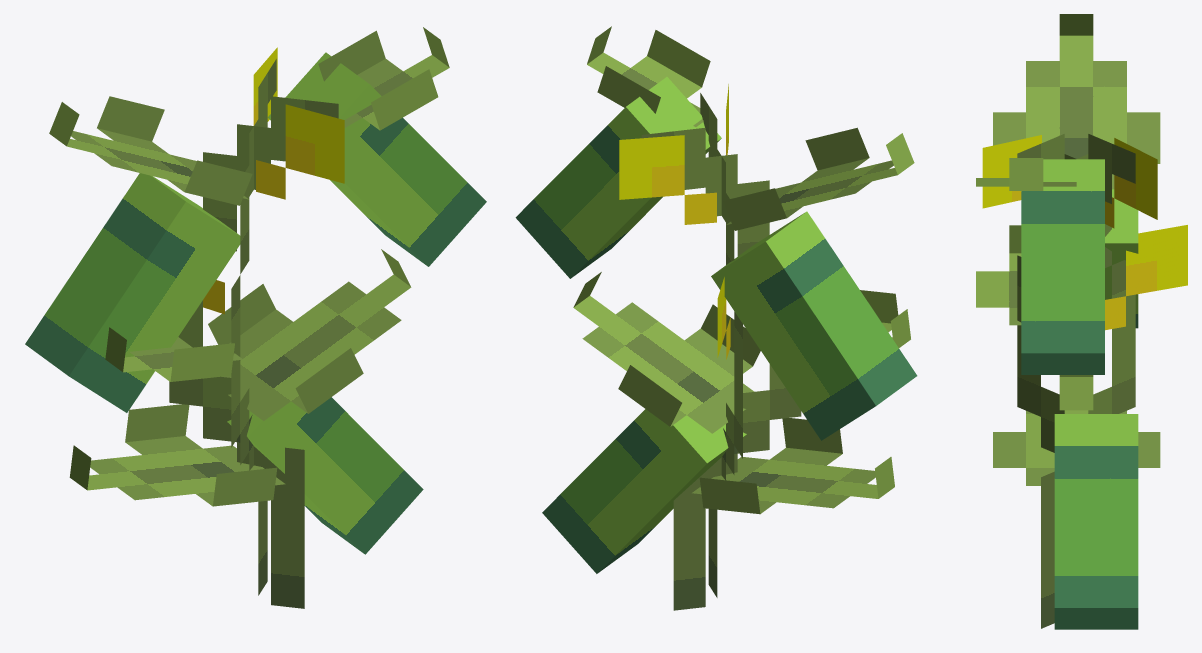
File: cucumber-stage4.gltf
3 renders of one model, left to right at view 1: azimuth 30°, elevation 25°; view 2: azimuth 150°, elevation 25°; view 3: azimuth 270°, elevation 25°, orthographic. The views are drawn at different scales.
Visible parts, largest first — view 1: cube (×12); view 2: cube (×12); view 3: cube (×13).
Boxes of the visible parts, bbox=[...] form: cube (×12): bbox=[25, 27, 486, 608]; cube (×12): bbox=[515, 26, 917, 610]; cube (×13): bbox=[976, 14, 1187, 629].
Size of the model in its own units: 0.8237 by 1.09 by 0.3954.
1 material, 1 textured.
